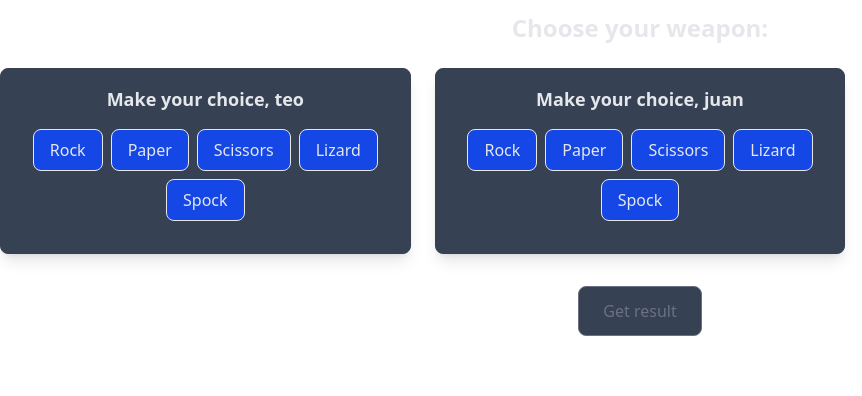
Test: Game Component › displays a tie if both player and computer choose the same
Click the button "Rock" below "teo".
click(68, 150)  # box left=33, top=129, right=103, bottom=171
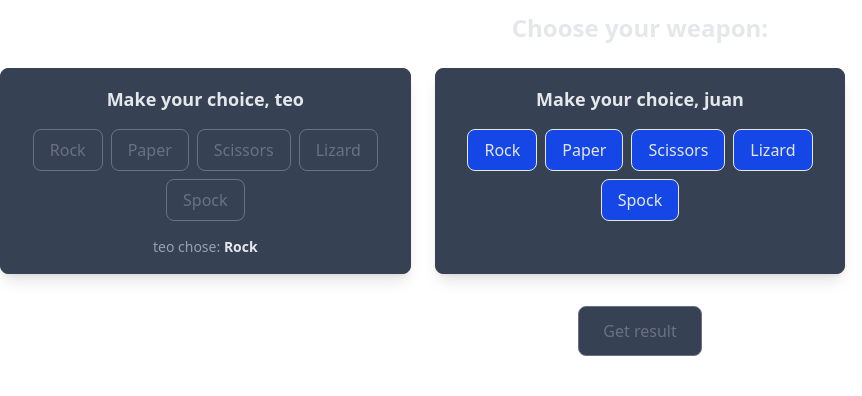
Click the button "Rock" below "juan".
click(502, 150)  # box left=468, top=129, right=537, bottom=171
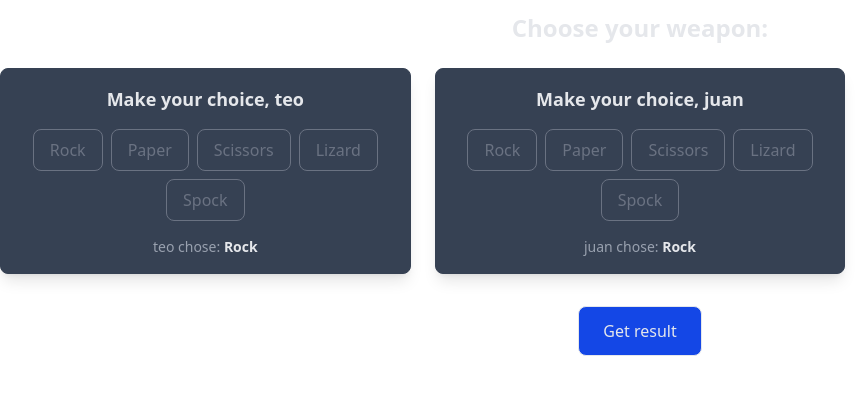
Result: the text "teo chose:" reads "teo chose: Rock" at left=153, top=237, right=258, bottom=257
Result: the text "juan chose:" reads "juan chose: Rock" at left=584, top=237, right=696, bottom=257
Click the button "Get result".
click(640, 331)  # box left=578, top=306, right=702, bottom=356
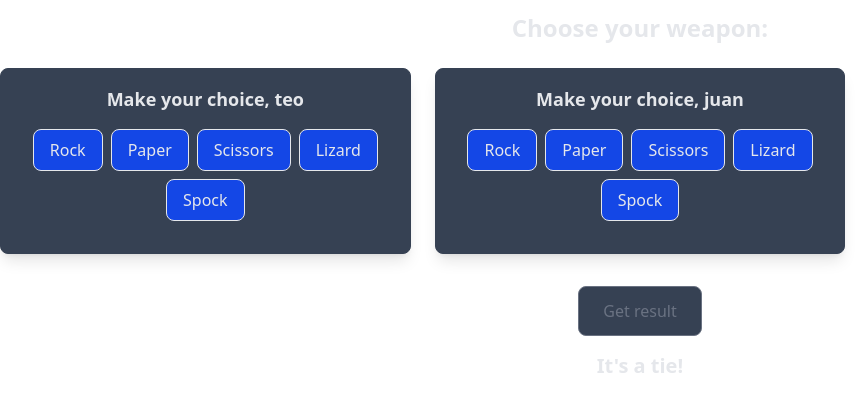
Result: the heading "It's a tie!" is shown at left=597, top=352, right=683, bottom=379
